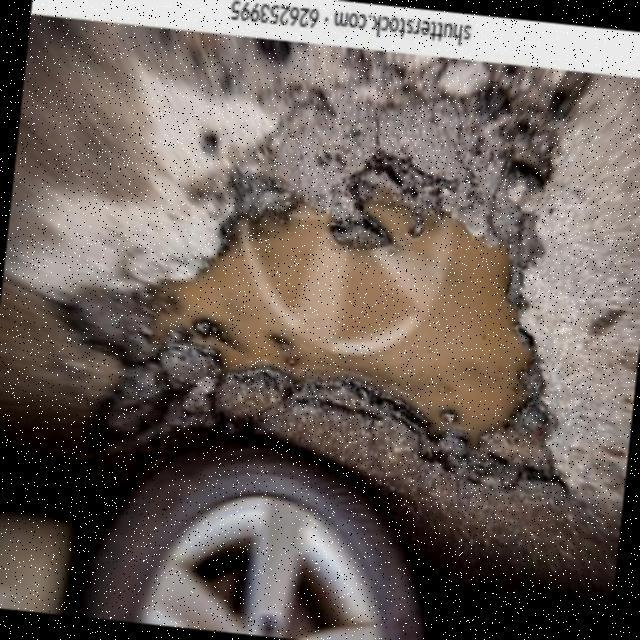Pothole: (53, 23, 591, 487)
